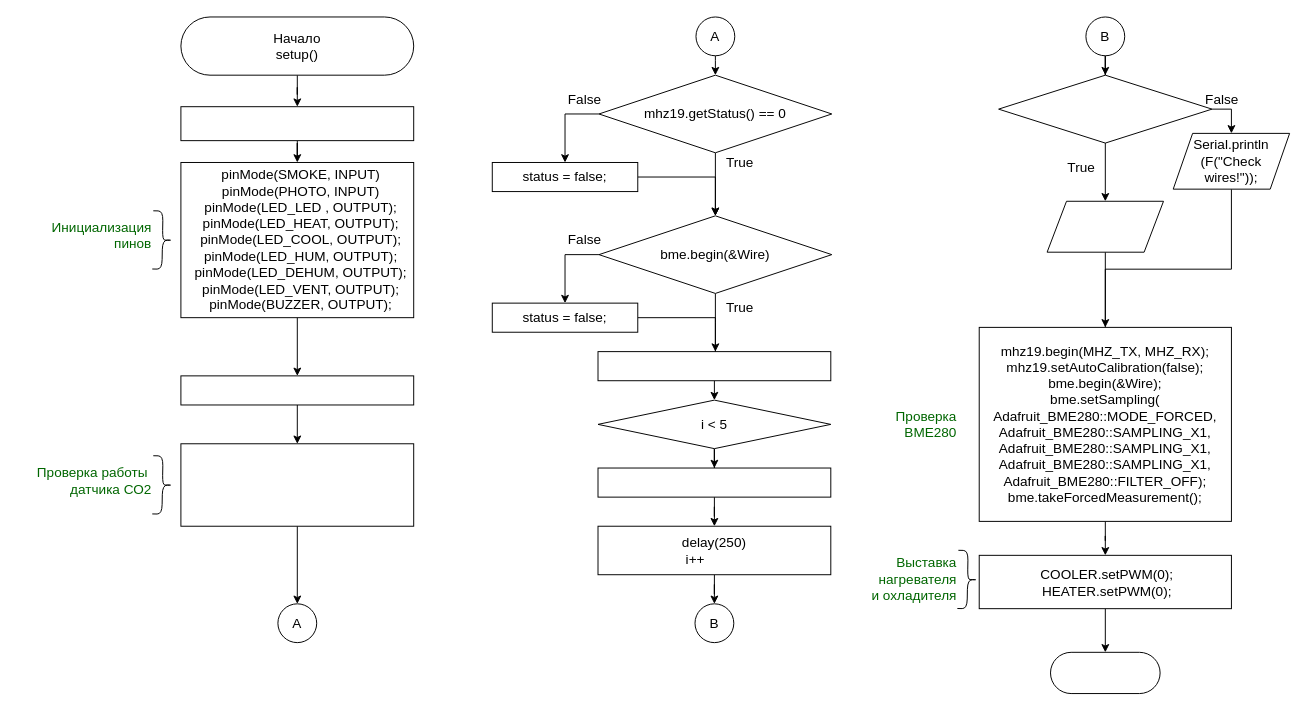
Image size: 1307x711. Some labels were removed from this diagram. Here are the shapes that lost their labels. From the top down, the centre of each, then its label:
point 297,123: Serial.begin(9600);
point 1105,108: status
point 1105,226: Serial.println (F("All good"));
point 714,366: i=1
point 297,390: bool status = true;
point 297,484: mhz19.begin(MHZ_TX, MHZ_RX); mhz19.setAutoCalibration(false); mhz19.getStatus();
point 714,482: Serial.println(analogRead(PHOTO));
point 1105,672: Конец setup()
